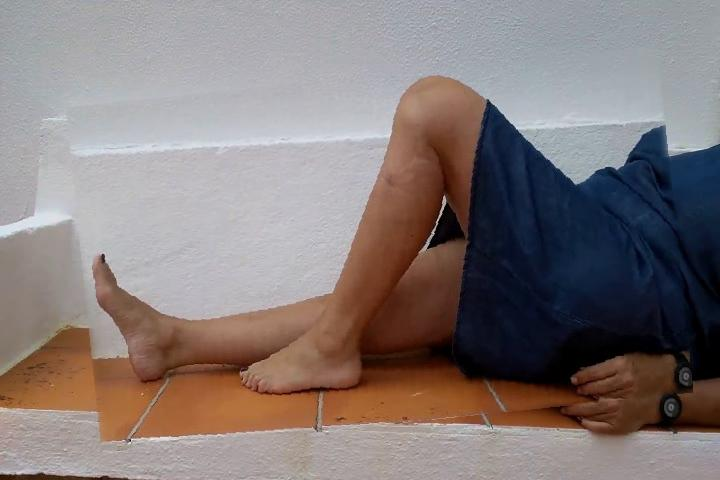lower_body: (75, 61, 686, 440)
